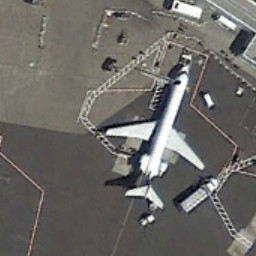Airplane: (98, 58, 217, 219)
